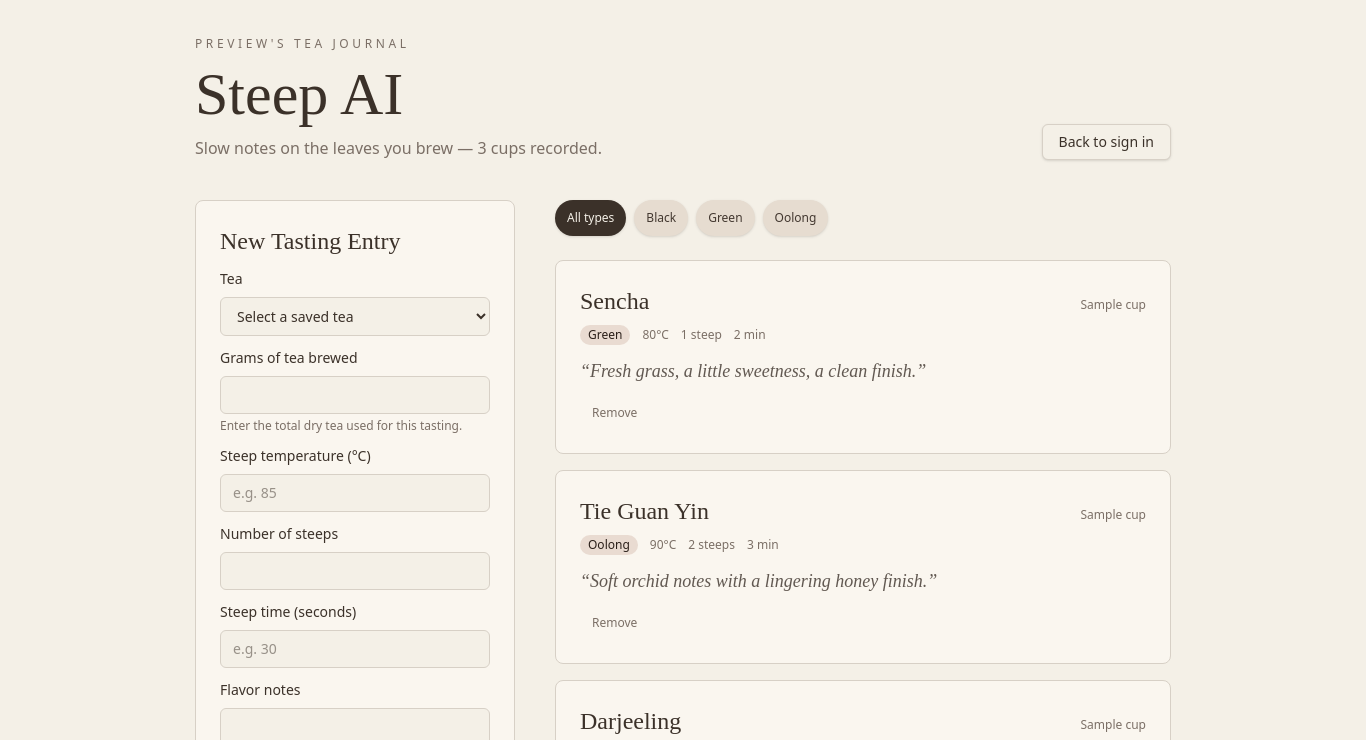
Test: temporary journal preview › allows a visitor to add a cup without reading private journals
The image size is (1366, 740).
Select "Sencha — Green" in the dropdown labelled "Tea" at (355, 316), box top-left (220, 297), bottom-right (490, 336)
(page scrolled)
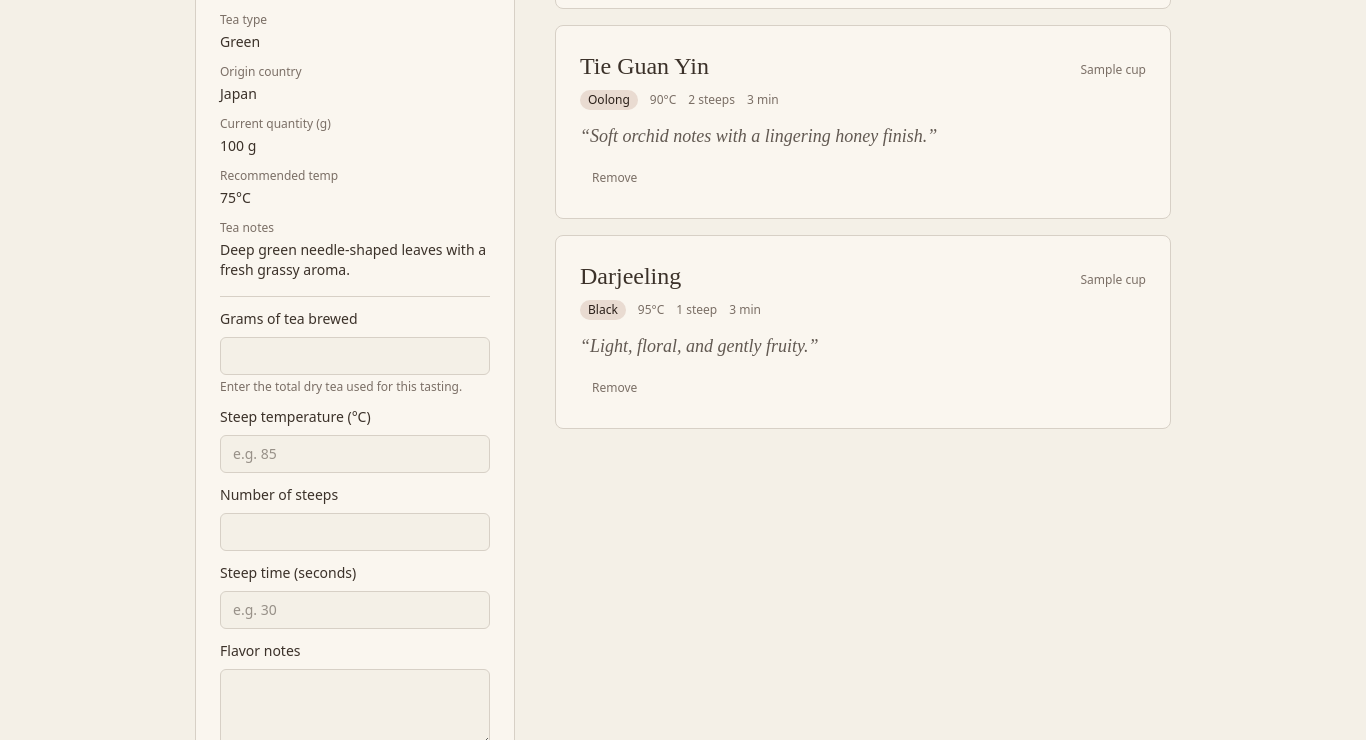
Type "4.5" into the number field labelled "Grams of tea brewed" at (355, 356), box top-left (220, 337), bottom-right (490, 375)
(page scrolled)
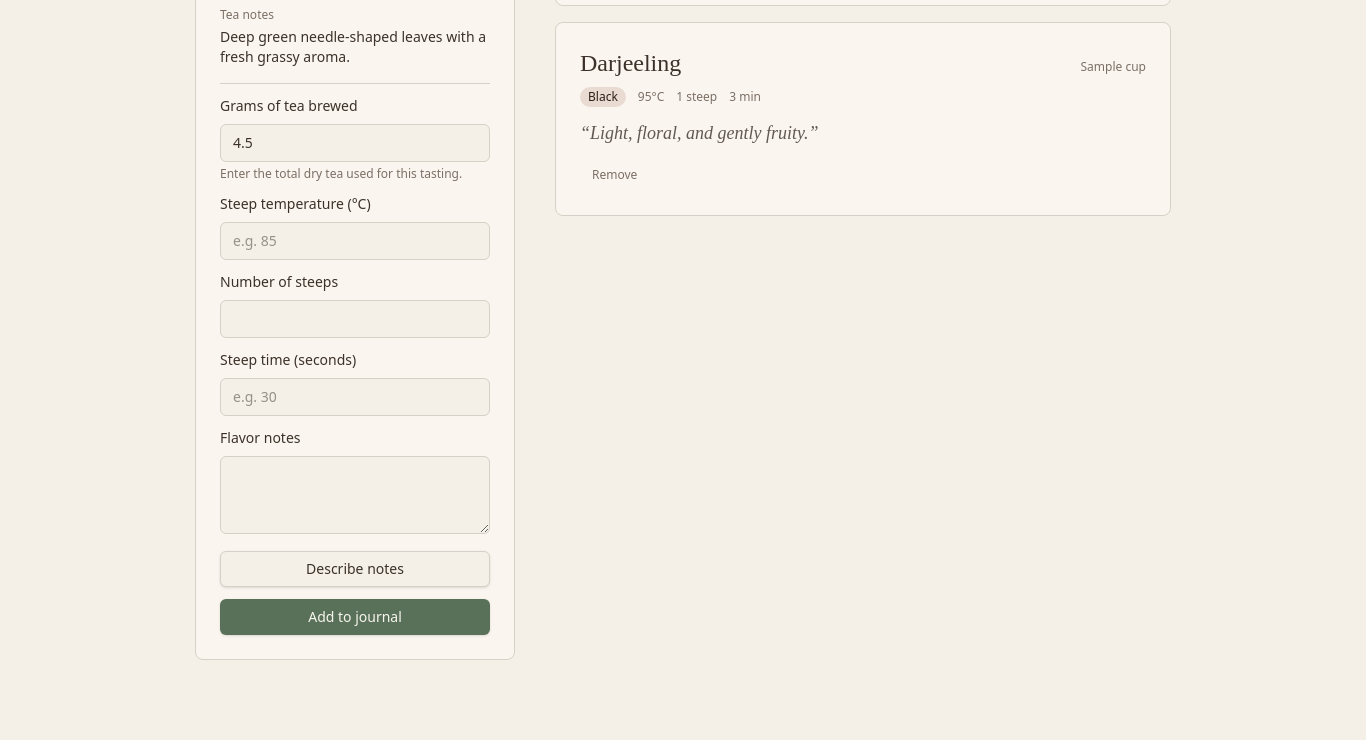
Click the button "Add to journal" at (355, 617), box top-left (220, 599), bottom-right (490, 635)
(page scrolled)
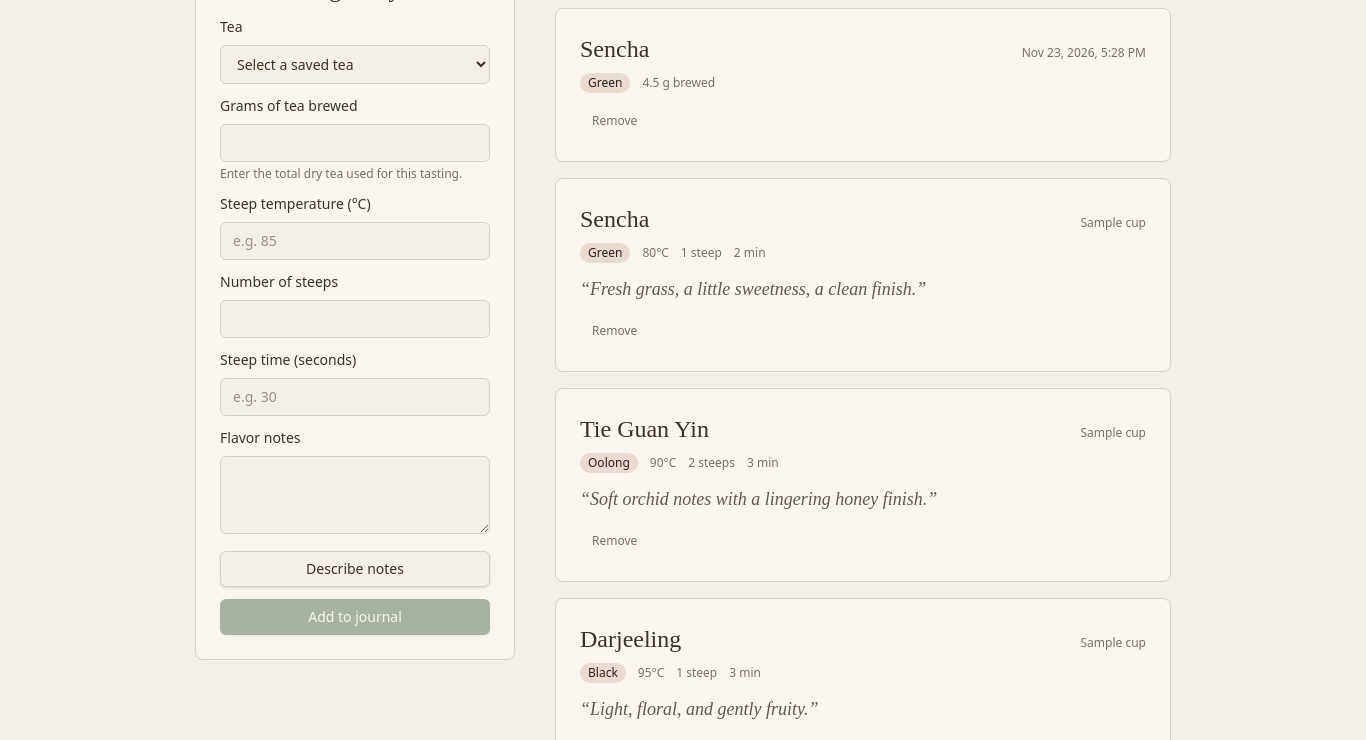
Expected: the number of headings "Sencha" is 2, top-left (580, 33), bottom-right (649, 65); top-left (580, 203), bottom-right (649, 235)
Expected: the text "4.5 g brewed" is shown, top-left (642, 75), bottom-right (715, 91)
Select "Sencha — Green" in the dropdown labelled "Tea" at (355, 64), box top-left (220, 45), bottom-right (490, 84)
(page scrolled)
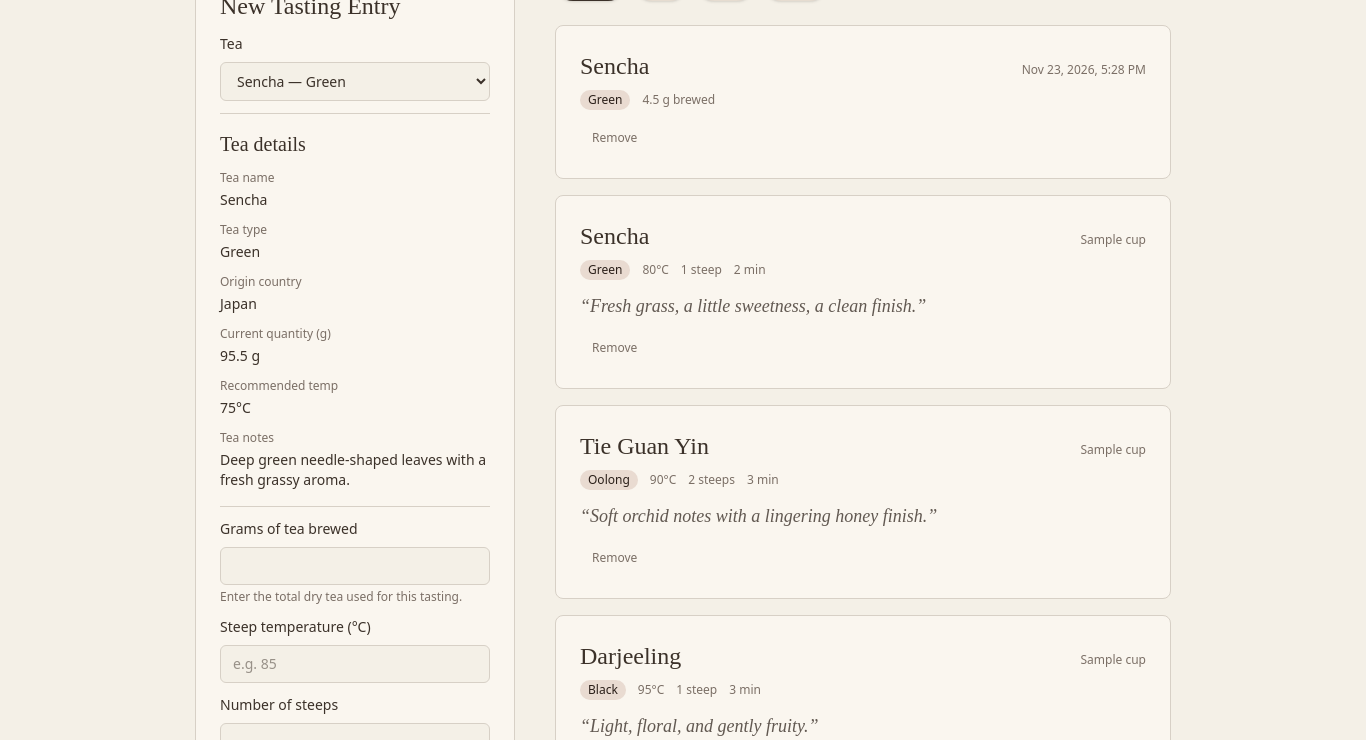
Expected: the text "95.5 g" is shown, top-left (220, 346), bottom-right (260, 365)
